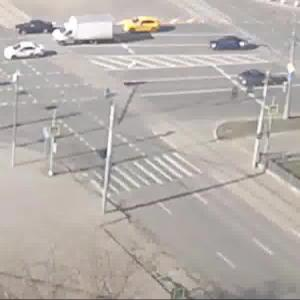car: (54, 17, 119, 52), (120, 16, 169, 39), (5, 42, 52, 65), (206, 34, 255, 55), (240, 66, 277, 91), (14, 17, 60, 36)
